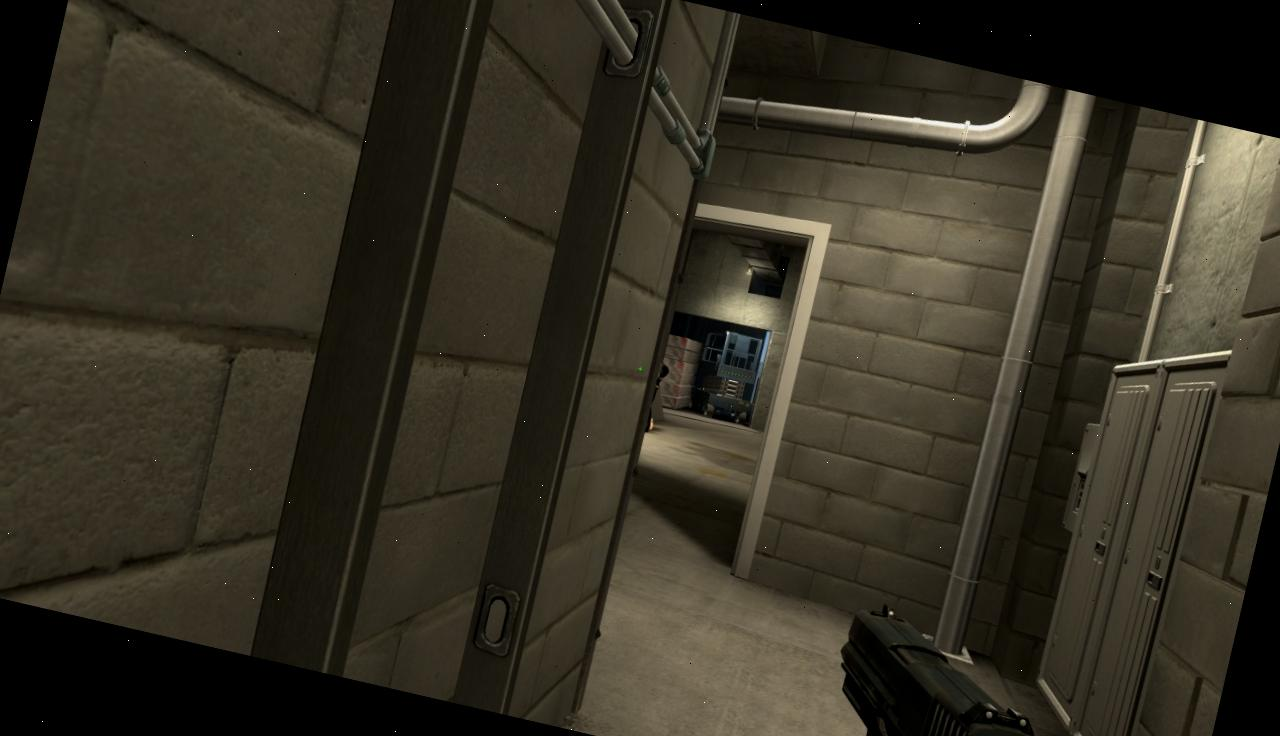pistol: (810, 599, 1101, 736)
